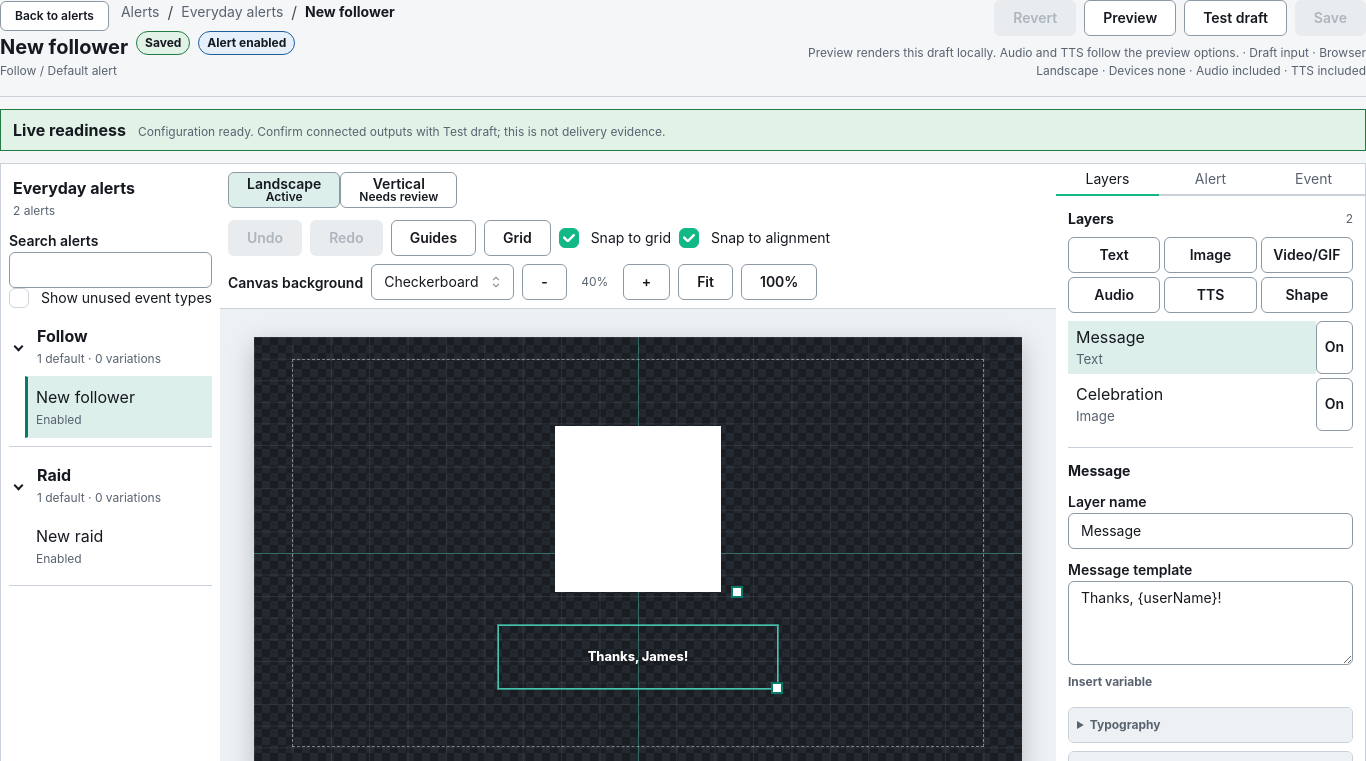
Test case: AlertEditorPage › locks active-save dismissal, issues one request, and keeps typed failure in its review for retry
Replace the text in the text box labelled "Message template" with "Retained review draft" at (1210, 623), box left=1068, top=581, right=1353, bottom=665
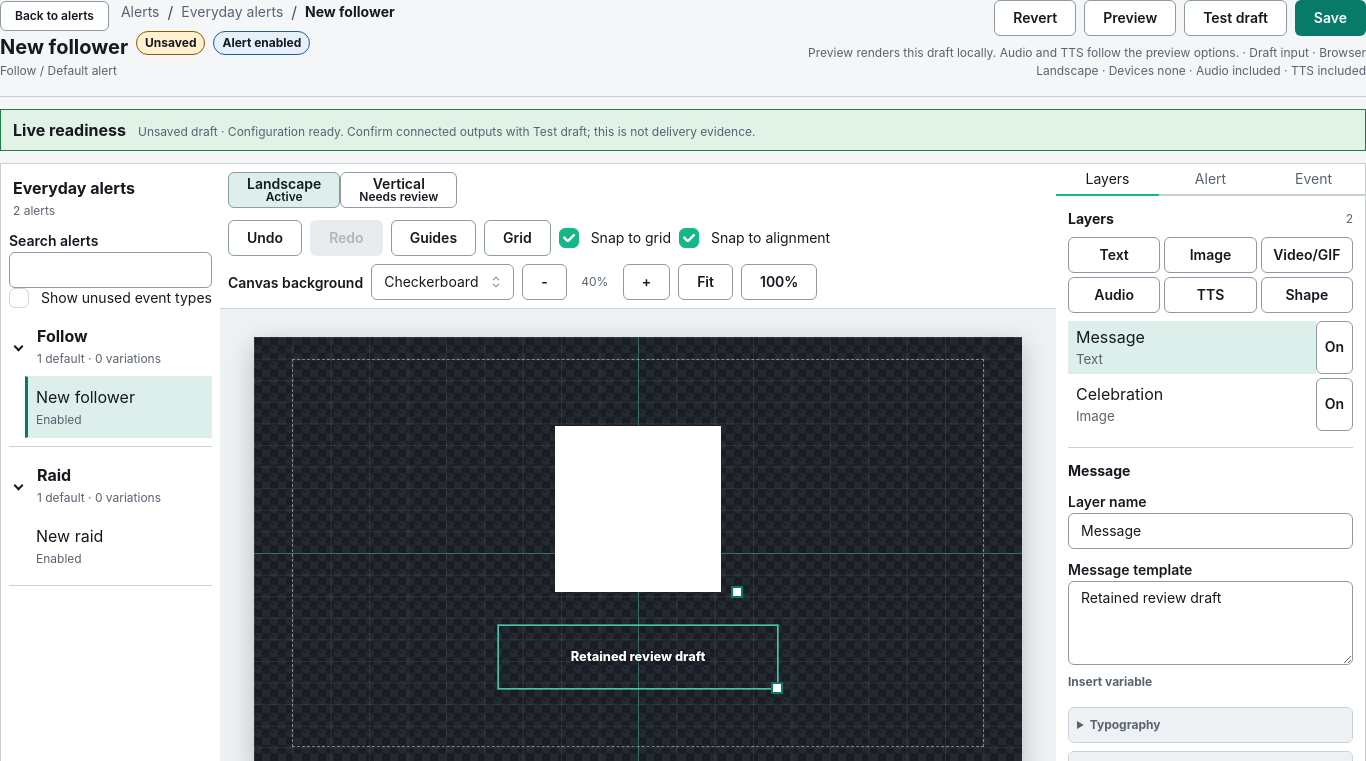
Click the button "Save".
click(1330, 18)  # box left=1295, top=0, right=1365, bottom=36
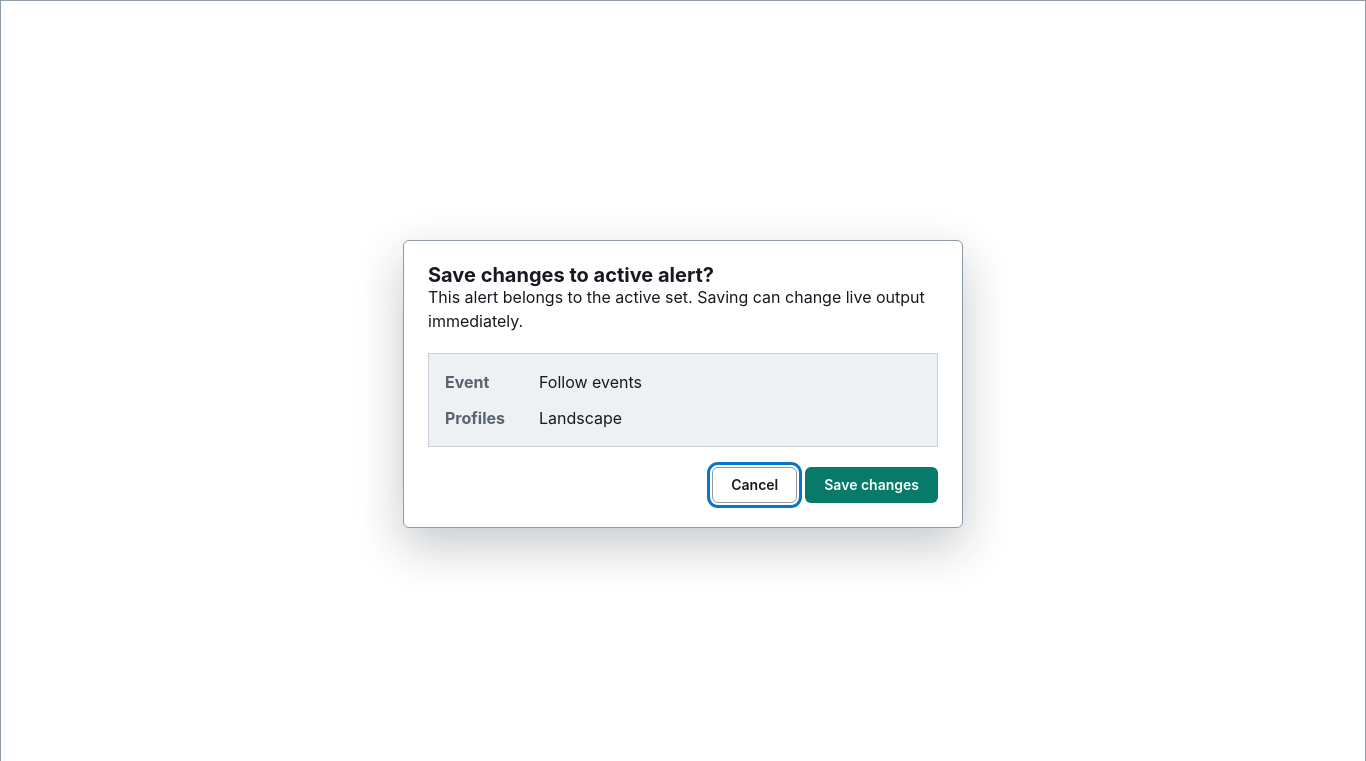
Click the button "Save changes".
click(872, 485)  # box left=805, top=467, right=938, bottom=503
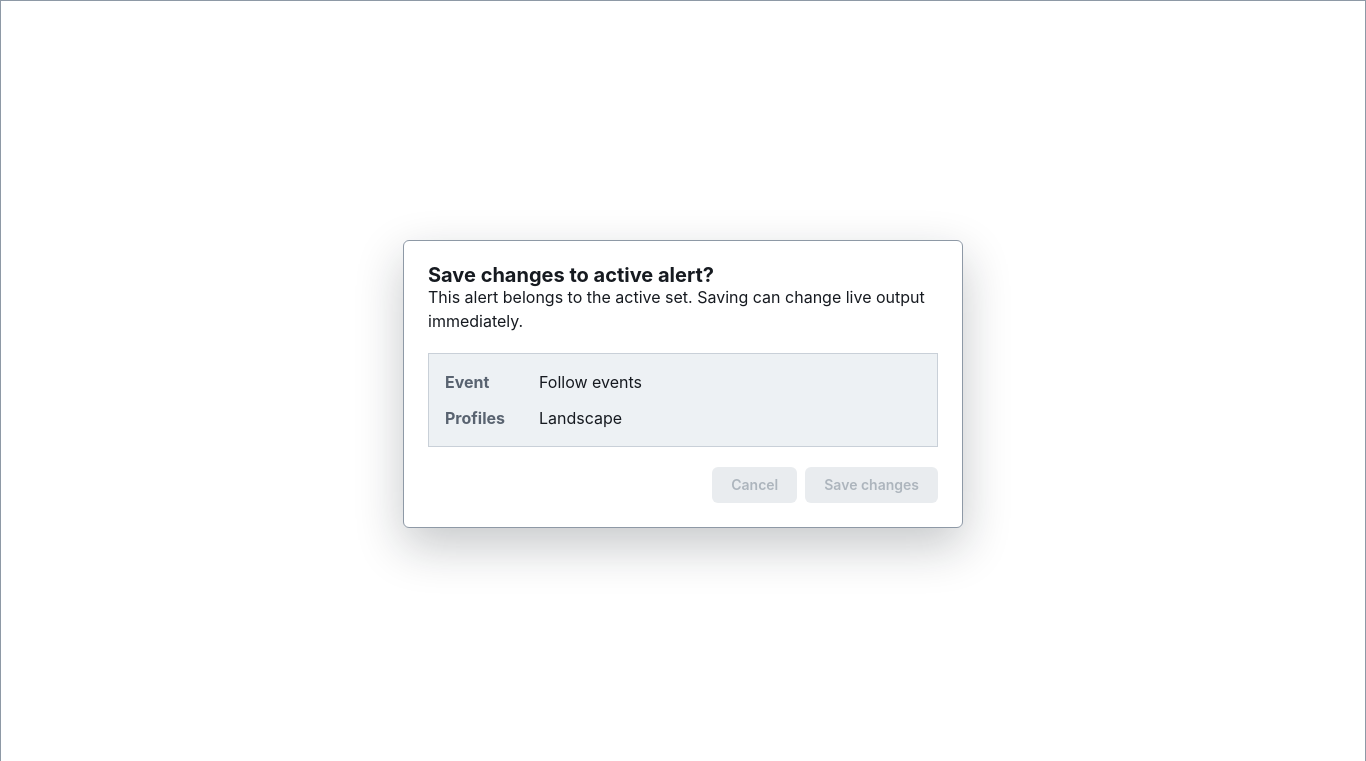
Check: the button "Cancel" is disabled, box left=712, top=467, right=797, bottom=503
Press Escape
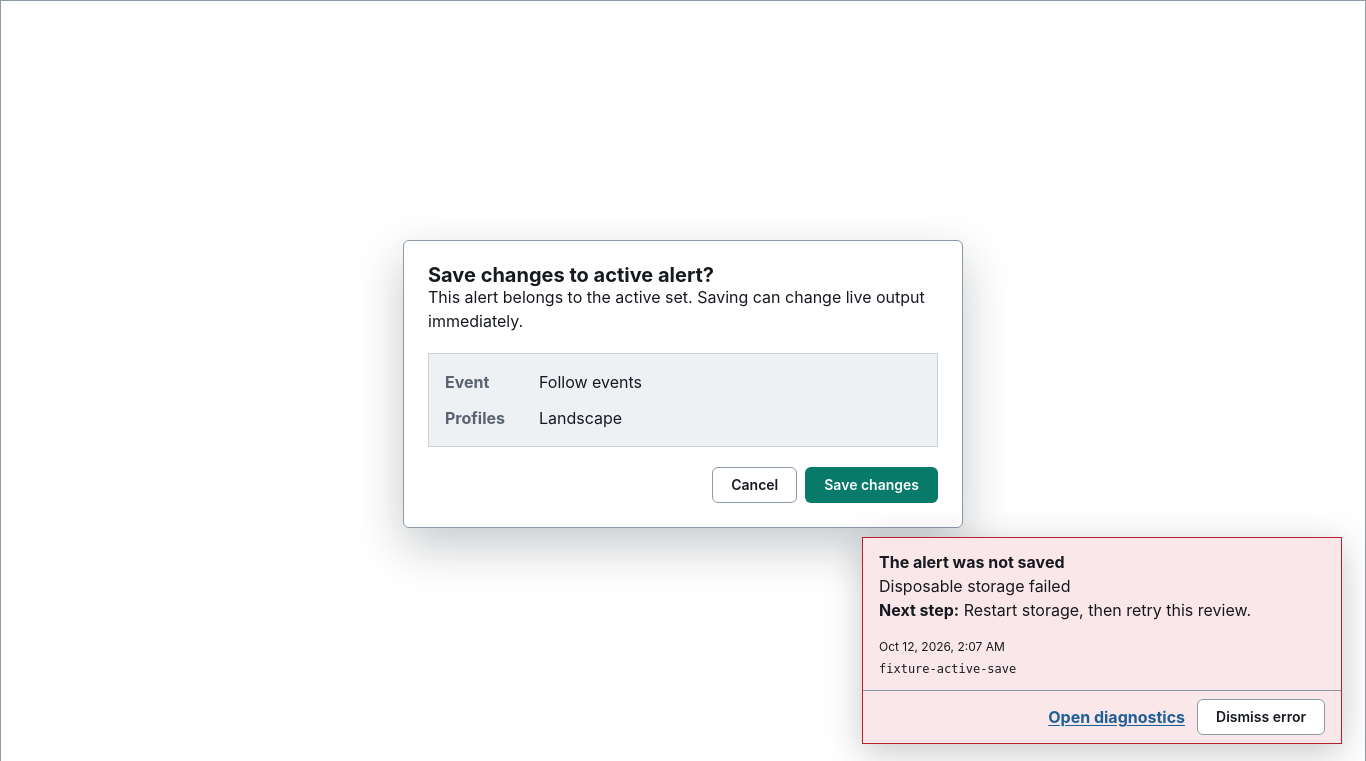
Check: the dialog named "Save changes to active alert?" is shown, box left=403, top=240, right=963, bottom=528
Check: the number of messages is 1, box left=879, top=552, right=1251, bottom=676
Check: the message shows "fixture-active-save", box left=879, top=662, right=1016, bottom=676
Click the button "Save changes".
click(872, 485)  # box left=805, top=467, right=938, bottom=503
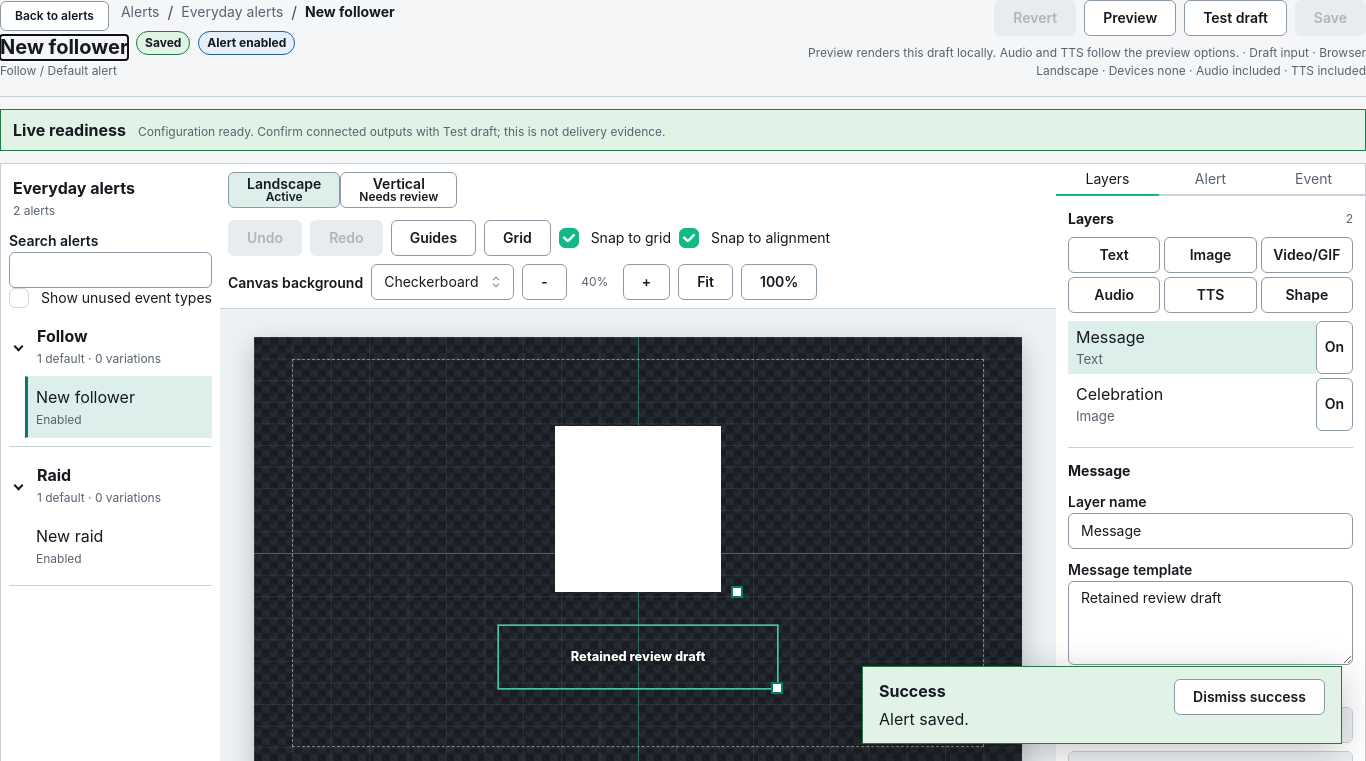
Check: the heading "Save changes to active alert?" is gone
